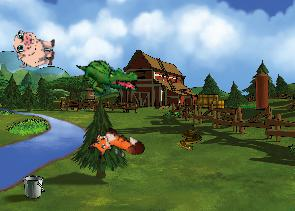crocodile: (76, 55, 139, 98)
fox: (85, 120, 147, 174)
pig: (12, 29, 56, 69)
